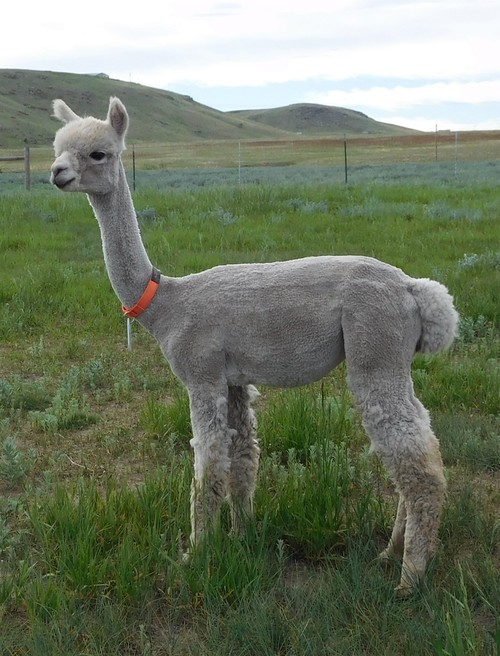alpaca: (47, 96, 458, 602)
